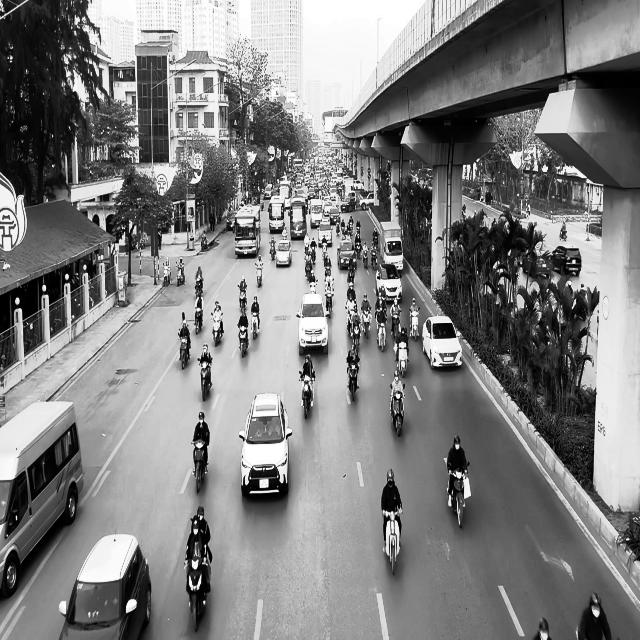bus: (0, 399, 84, 598), (234, 204, 261, 257), (379, 221, 404, 274)
car: (58, 532, 152, 640), (239, 392, 292, 497), (422, 315, 462, 369), (296, 292, 329, 356), (376, 263, 402, 302), (551, 245, 582, 276), (522, 249, 550, 279), (336, 240, 356, 270), (275, 238, 292, 266)
motorbike: (184, 544, 211, 632), (445, 459, 469, 528), (382, 506, 402, 574), (191, 439, 208, 493), (298, 370, 315, 419), (390, 382, 405, 436), (197, 356, 213, 401), (346, 360, 360, 405), (393, 340, 409, 377), (178, 332, 190, 369), (375, 316, 387, 352), (211, 313, 223, 346), (238, 323, 248, 358), (250, 309, 260, 339), (194, 305, 203, 334), (238, 286, 247, 312), (176, 261, 185, 286), (162, 263, 171, 286), (255, 263, 263, 287)
